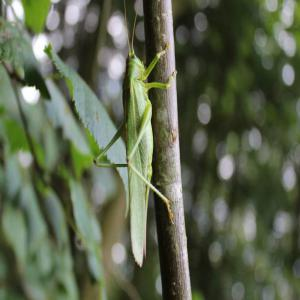locust: (102, 4, 175, 269)
